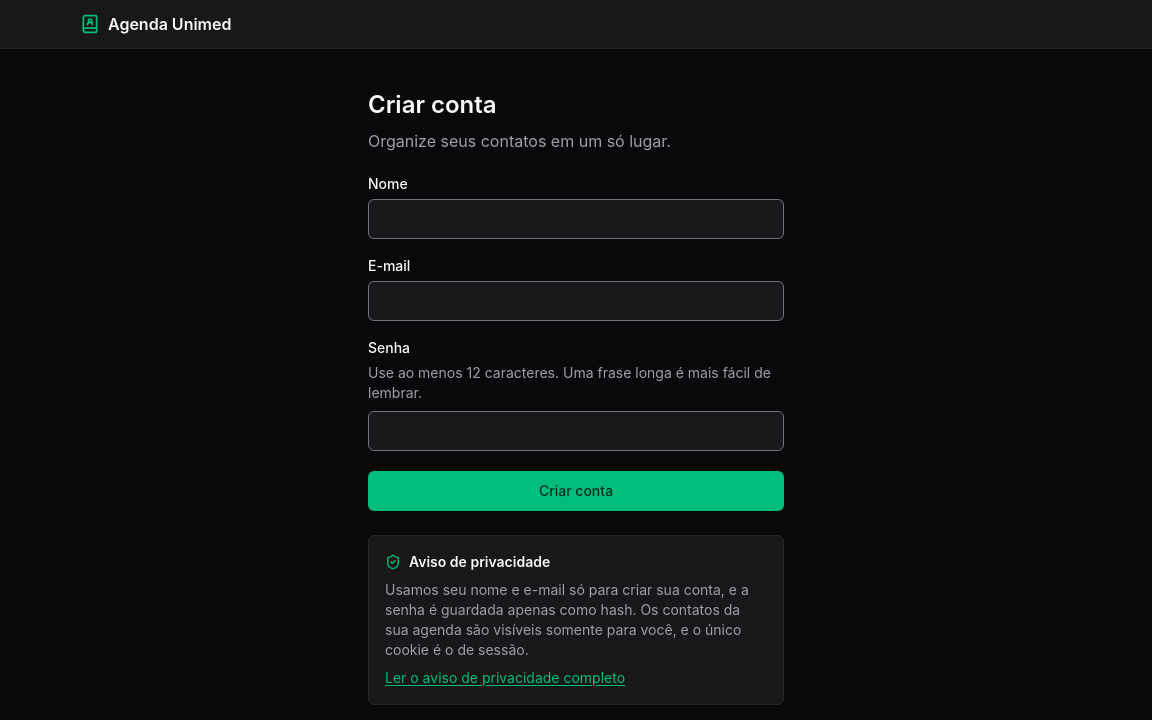
Test: Criar conta (RF01) › exibe o aviso de privacidade com acesso ao texto completo
Click the link "Ler o aviso de privacidade completo".
click(505, 678)  # box [385,669,625,686]
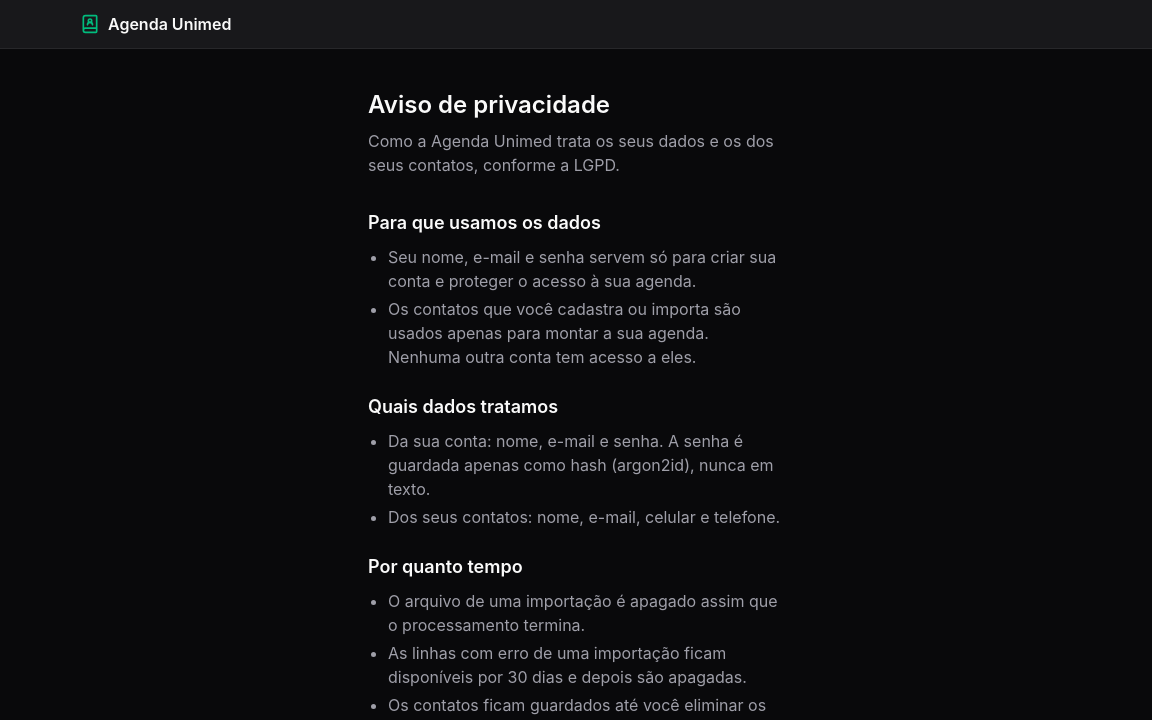
Now the heading "Aviso de privacidade" is shown, box [368,90,610,119]
